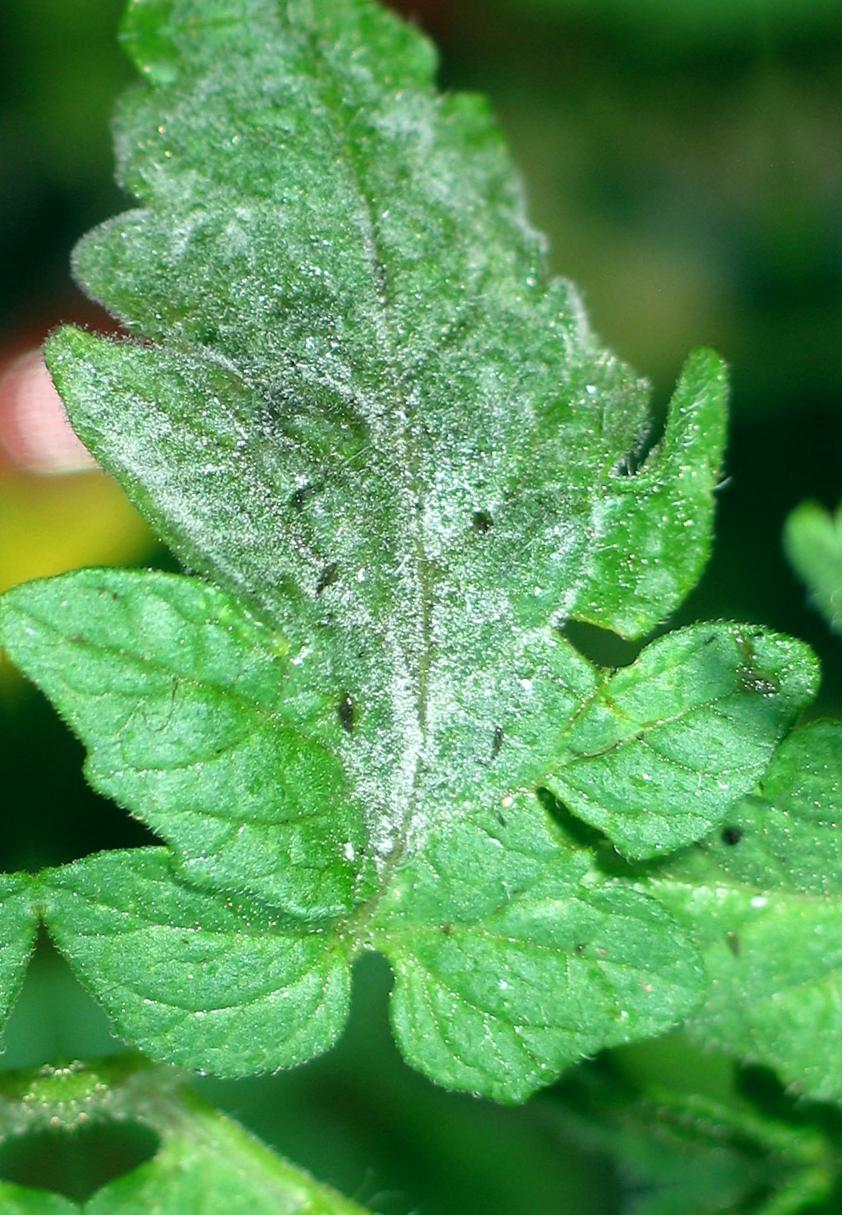Tomato leaf late blight: (0, 0, 842, 1167)
